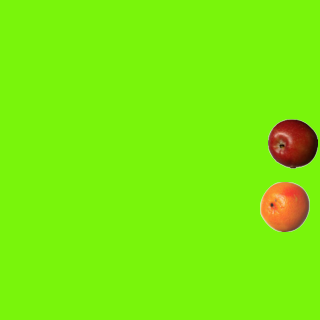Apple Braeburn: (267, 118, 317, 168)
Grapefruit Pink: (259, 181, 309, 231)
